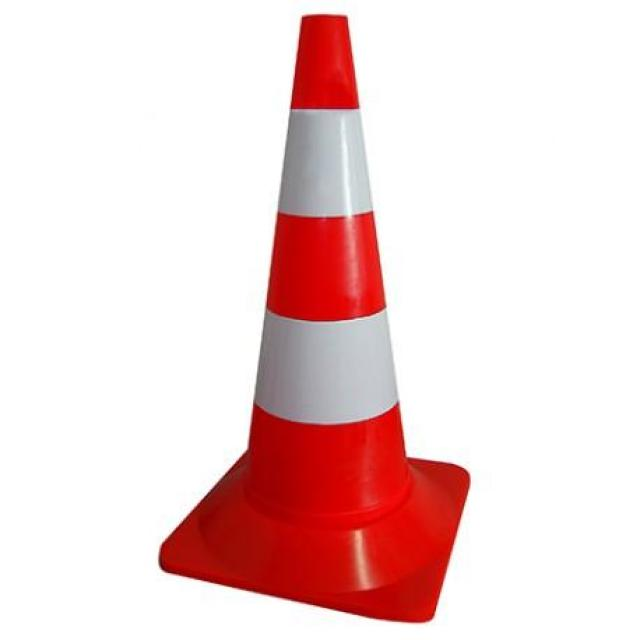cone: (189, 11, 445, 617)
